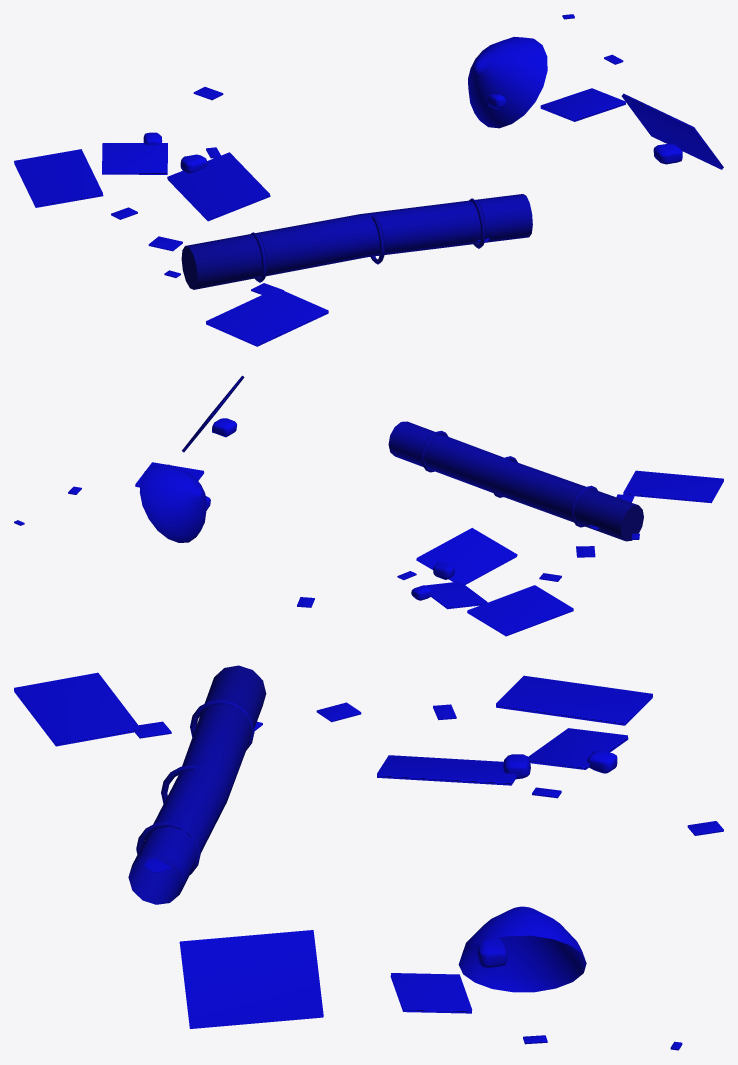
The model's file is lit_fragments.glb.
3 renders of one model, top to bottom at view 1: azimuth 30°, elevation 25°; view 2: azimuth 150°, elevation 25°; view 3: azimuth 270°, elevation 25°, orthographic. The views are drawn at different scales.
Parts seen in each view (by area): view 1: lit_fragments; view 2: lit_fragments; view 3: lit_fragments.
Part boxes in pixels (bbox=[...]): lit_fragments: bbox=[14, 14, 723, 346]; lit_fragments: bbox=[14, 375, 723, 636]; lit_fragments: bbox=[14, 665, 723, 1050].
Size of what is drawn, in the model's own units: 3.74 by 0.4581 by 3.
